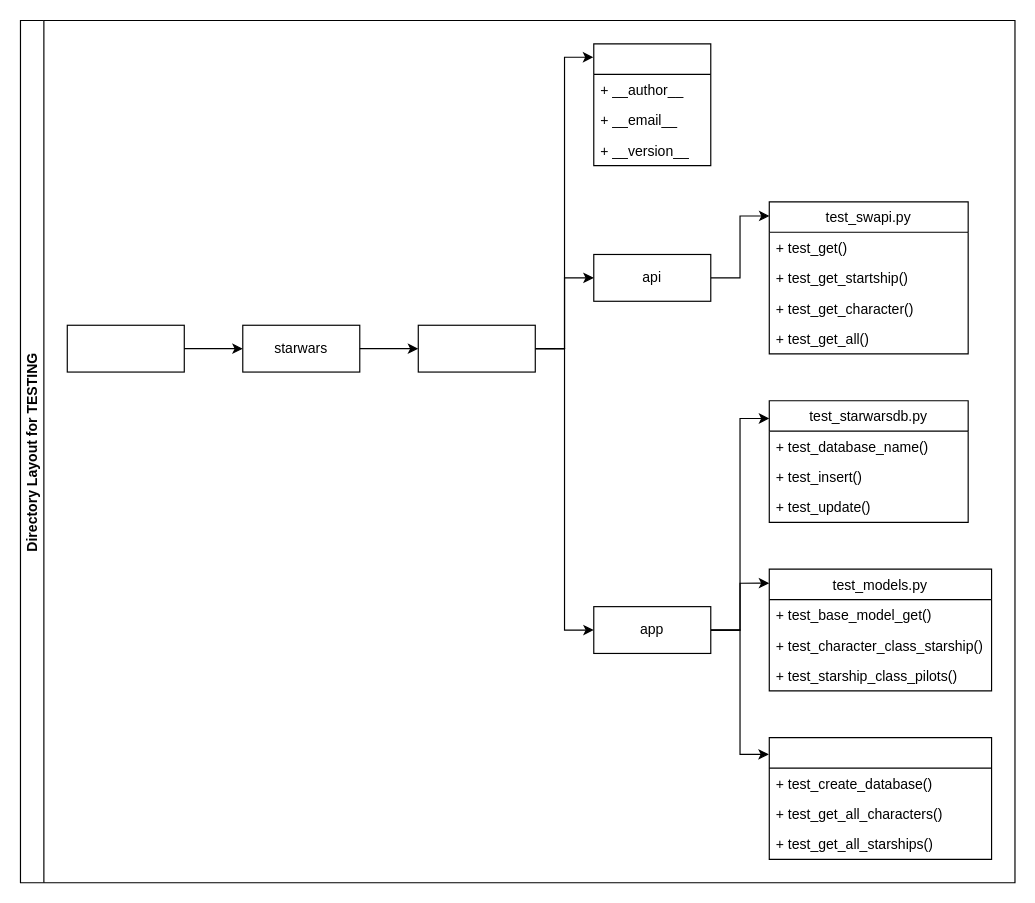
This 1035x903 diagram has some shape labels left out. Each missing label, with the box of its shape:
__init__.py: (593, 43, 711, 166)
Root: (66, 324, 184, 372)
test_generate_database.py: (768, 737, 992, 859)
tests: (417, 324, 535, 372)
